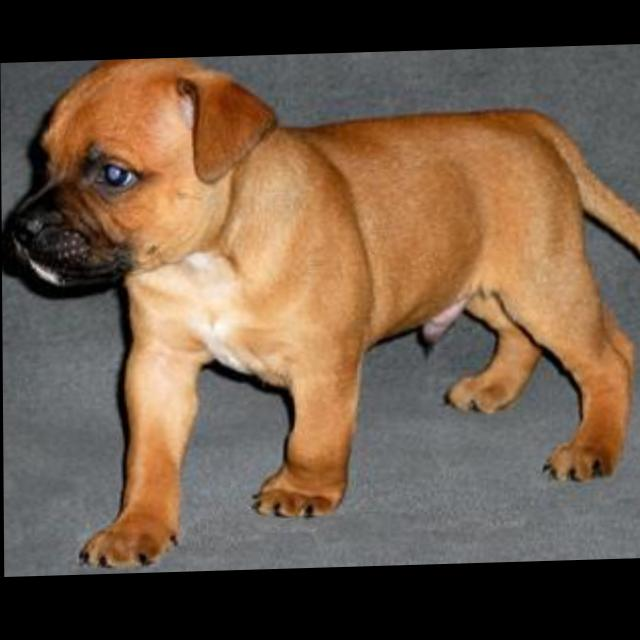staffford: (1, 49, 640, 574)
